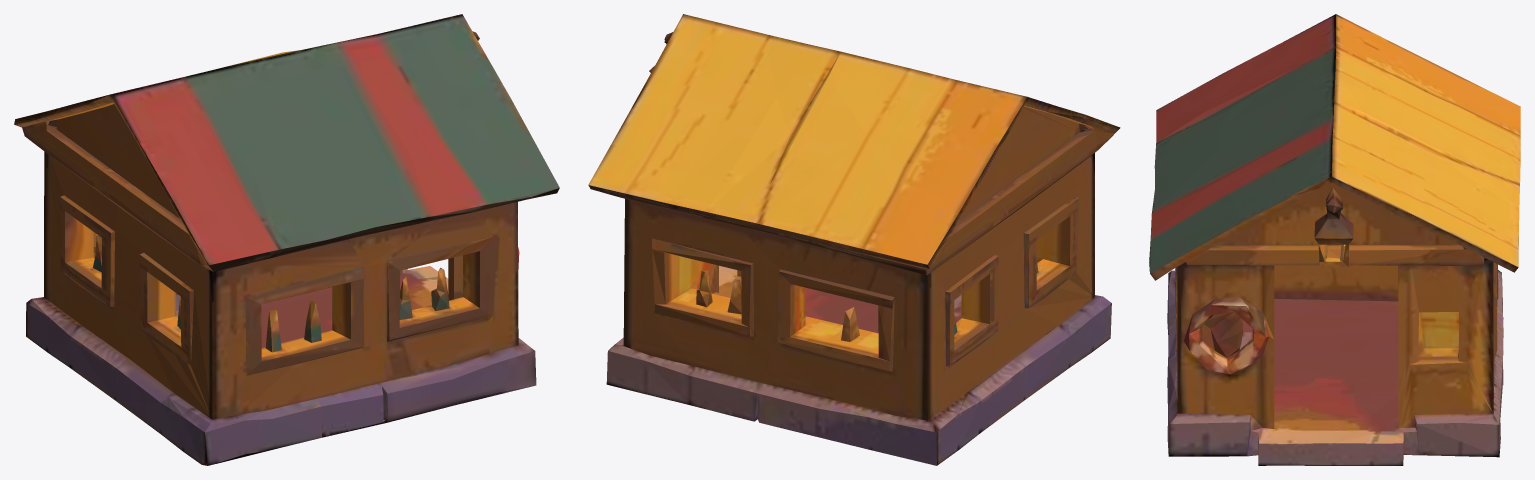
Rendered from bar.glb.
3 renders of one model, left to right at view 1: azimuth 30°, elevation 25°; view 2: azimuth 150°, elevation 25°; view 3: azimuth 270°, elevation 25°, orthographic. The views are drawn at different scales.
Visible parts, largest first — view 1: geometry_0; view 2: geometry_0; view 3: geometry_0.
Part boxes in pixels (bbox=[...]): geometry_0: bbox=[14, 14, 559, 465]; geometry_0: bbox=[588, 14, 1120, 465]; geometry_0: bbox=[1149, 14, 1520, 465].
Size of the model in its own units: 5.43 by 4.3 by 5.
Materials: 1 (1 with a texture image).
